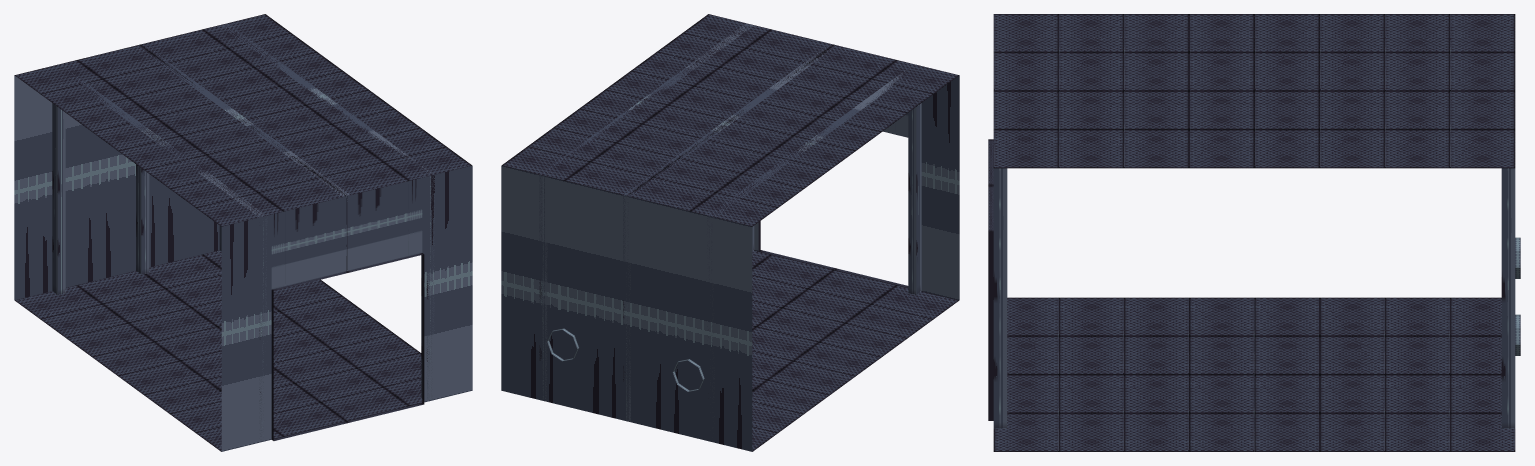
Rendered from SUB-01_Tramo_de_nave_sala_d.gltf.
3 renders of one model, left to right at view 1: azimuth 30°, elevation 25°; view 2: azimuth 150°, elevation 25°; view 3: azimuth 270°, elevation 25°, orthographic. The views are drawn at different scales.
Visible parts, largest first — view 1: SUB-01_Tramo_de_nave_sala_d-col; view 2: SUB-01_Tramo_de_nave_sala_d-col; view 3: SUB-01_Tramo_de_nave_sala_d-col.
Part boxes in pixels (bbox=[...]): SUB-01_Tramo_de_nave_sala_d-col: bbox=[14, 14, 472, 451]; SUB-01_Tramo_de_nave_sala_d-col: bbox=[501, 14, 959, 451]; SUB-01_Tramo_de_nave_sala_d-col: bbox=[988, 14, 1520, 451].
Bounding box in the file's own units: 7 × 6 × 10.2.
Materials: 1 (1 with a texture image).
